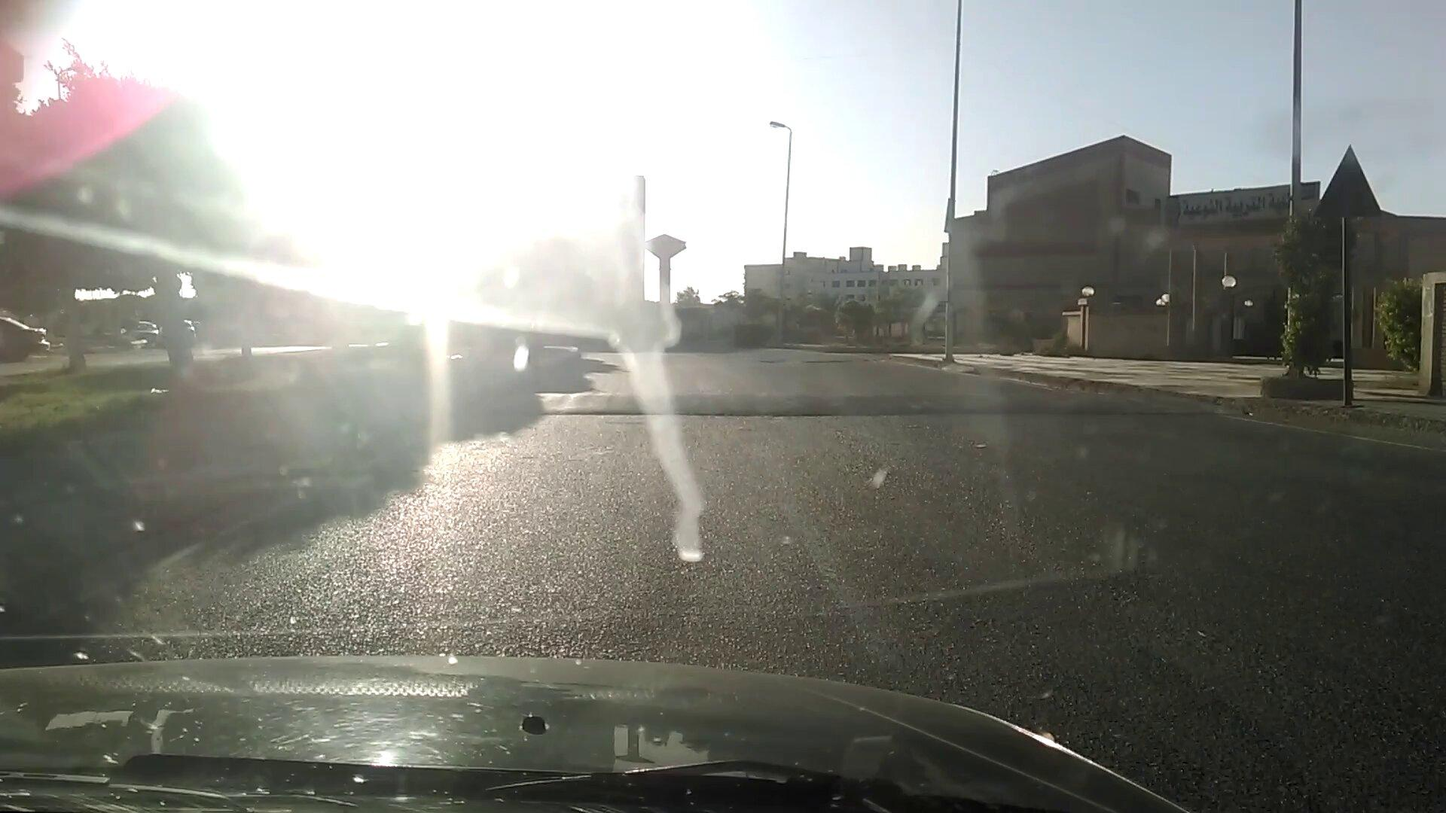Bump: (501, 369, 1214, 425)
